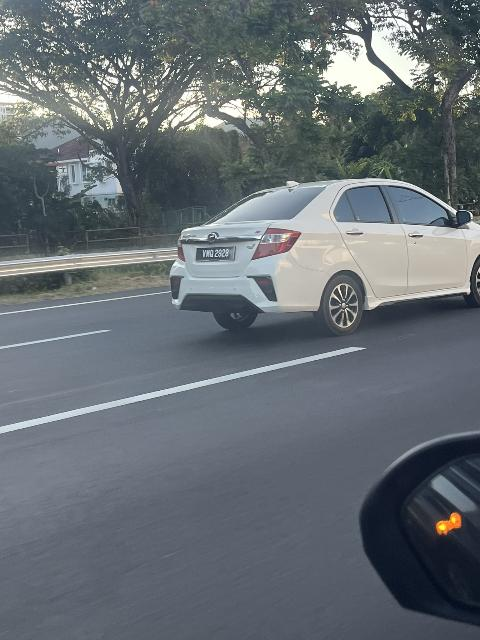License_Plate: (180, 244, 244, 269)
car: (164, 167, 480, 332)
